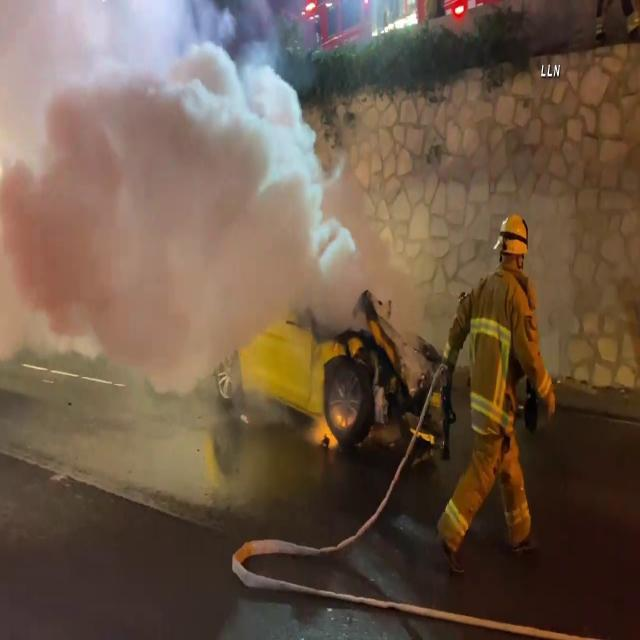Smoke: (0, 2, 339, 616)
